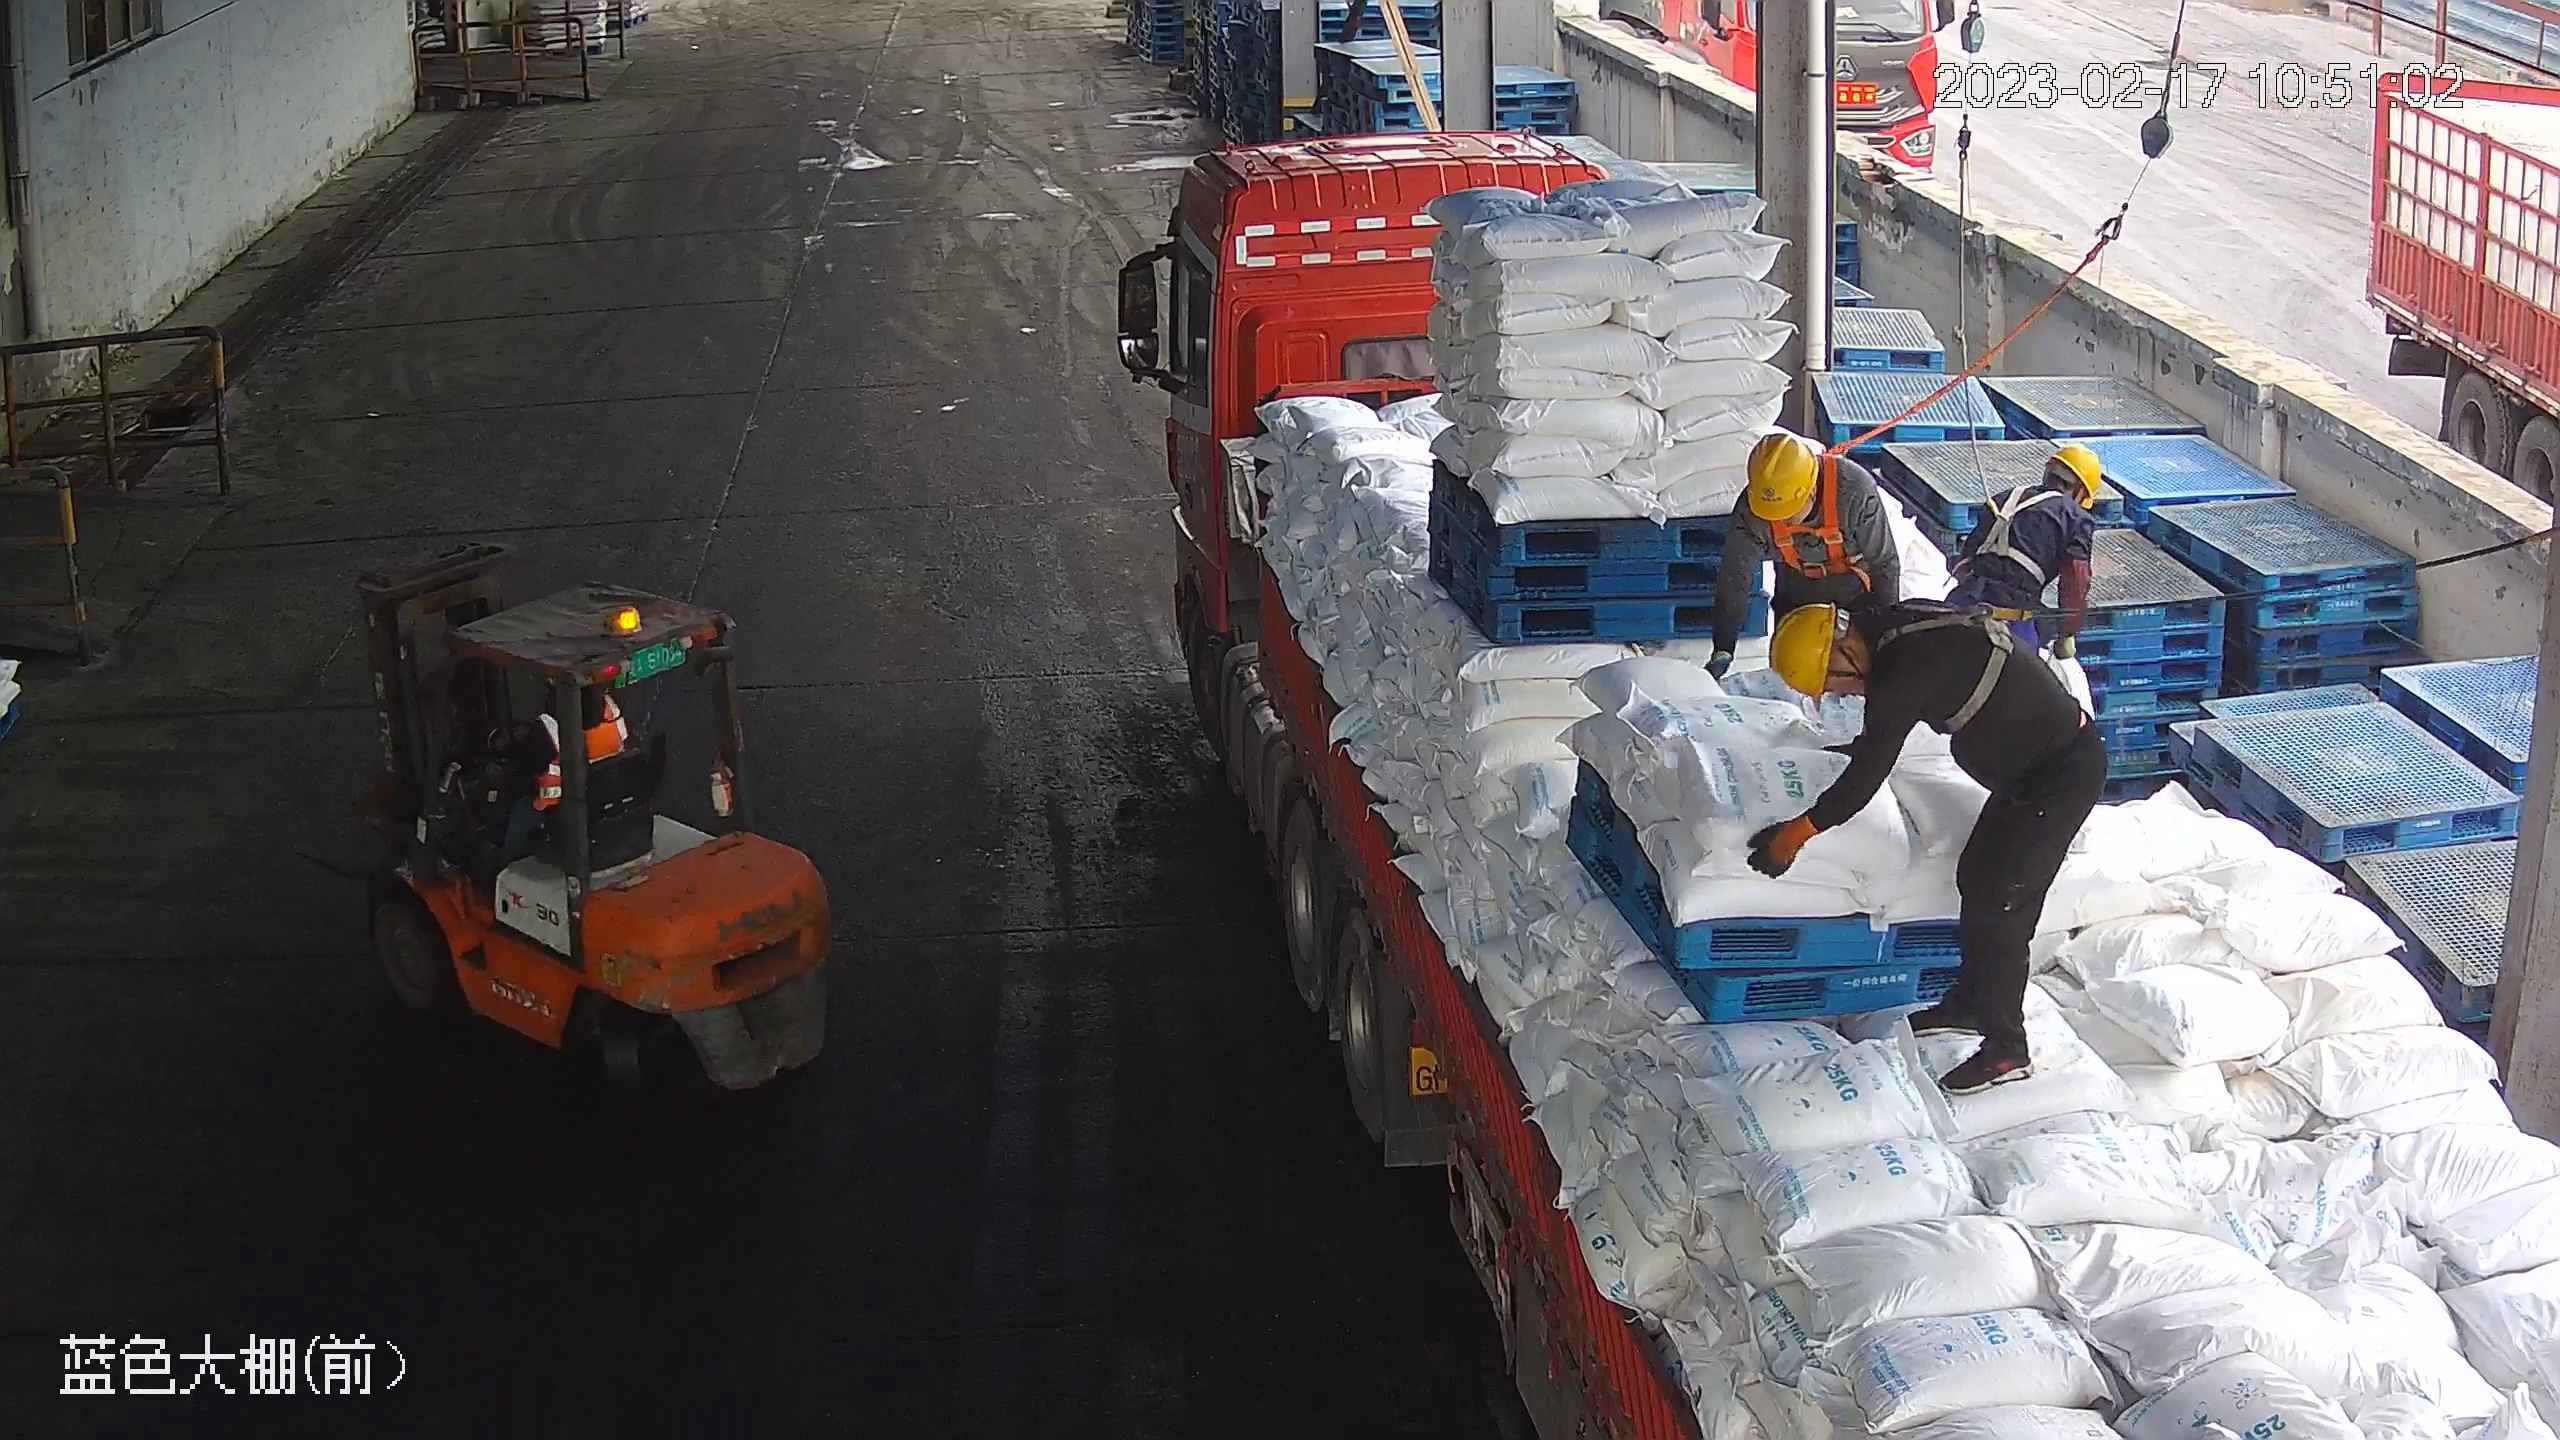belt: (1872, 597, 2032, 733), (1771, 456, 1860, 577), (1977, 481, 2063, 579)
head: (1772, 596, 1969, 714), (1725, 428, 1877, 545), (1978, 442, 2108, 558)
helmet: (1768, 600, 1844, 699), (1742, 431, 1821, 519), (2046, 442, 2108, 506)
people: (1753, 586, 2108, 1094), (1707, 430, 1915, 719)
truck: (1129, 131, 2560, 1440)
